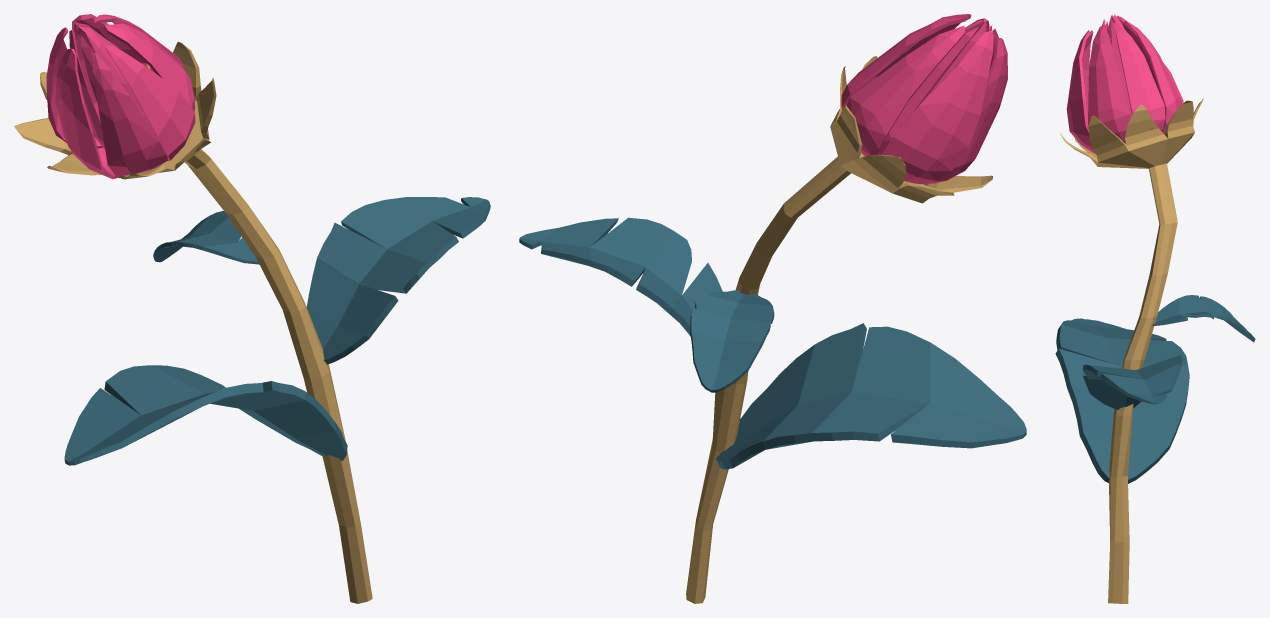
Rendered from Flower_11.fbx.
3 views of the same model, side by side, from view 1: azimuth 30°, elevation 25°; view 2: azimuth 150°, elevation 25°; view 3: azimuth 270°, elevation 25° (orthographic). The views are drawn at different scales.
Visible parts, largest first — view 1: Flower_11; view 2: Flower_11; view 3: Flower_11.
Boxes of the visible parts, left/top/right/bottom form: Flower_11: left=14, top=14, right=490, bottom=603; Flower_11: left=519, top=14, right=1026, bottom=603; Flower_11: left=1055, top=14, right=1255, bottom=603.
Size of the model in its own units: 54.36 by 72.74 by 27.09.
